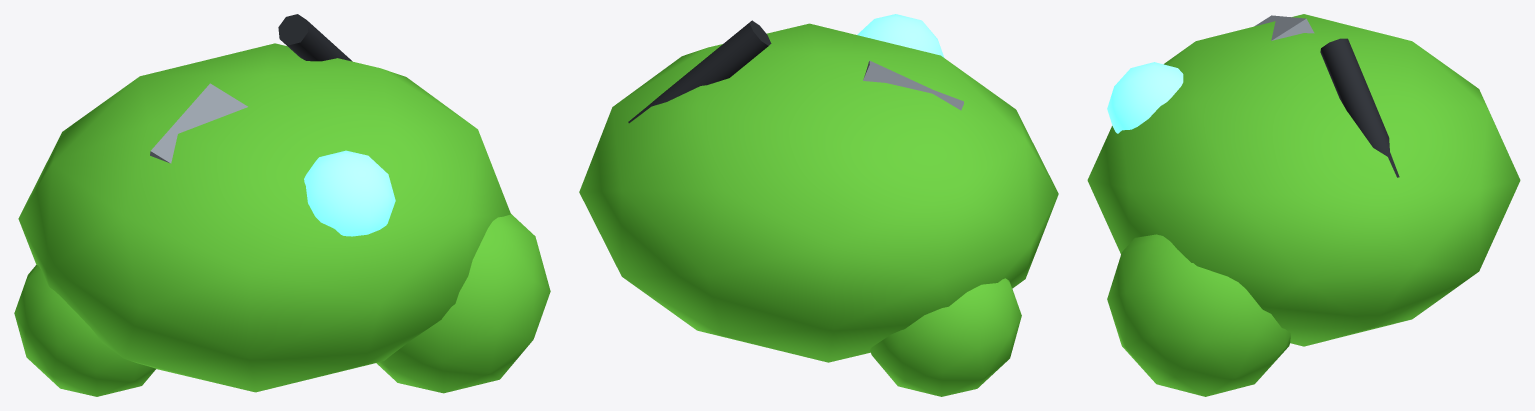
Rendered from en_blob.glb.
3 views of the same model, side by side, from view 1: azimuth 30°, elevation 25°; view 2: azimuth 150°, elevation 25°; view 3: azimuth 270°, elevation 25° (orthographic). The views are drawn at different scales.
Visible parts, largest first — view 1: torso, eye; view 2: torso, eye; view 3: torso, eye.
Part boxes in pixels (bbox=[...]): torso: bbox=[14, 14, 550, 396]; eye: bbox=[304, 150, 395, 236]; torso: bbox=[579, 20, 1058, 396]; eye: bbox=[857, 14, 944, 57]; torso: bbox=[1087, 14, 1520, 396]; eye: bbox=[1107, 62, 1183, 133].
Bounding box in the file's own units: 1.2 × 0.8838 × 1.1.
